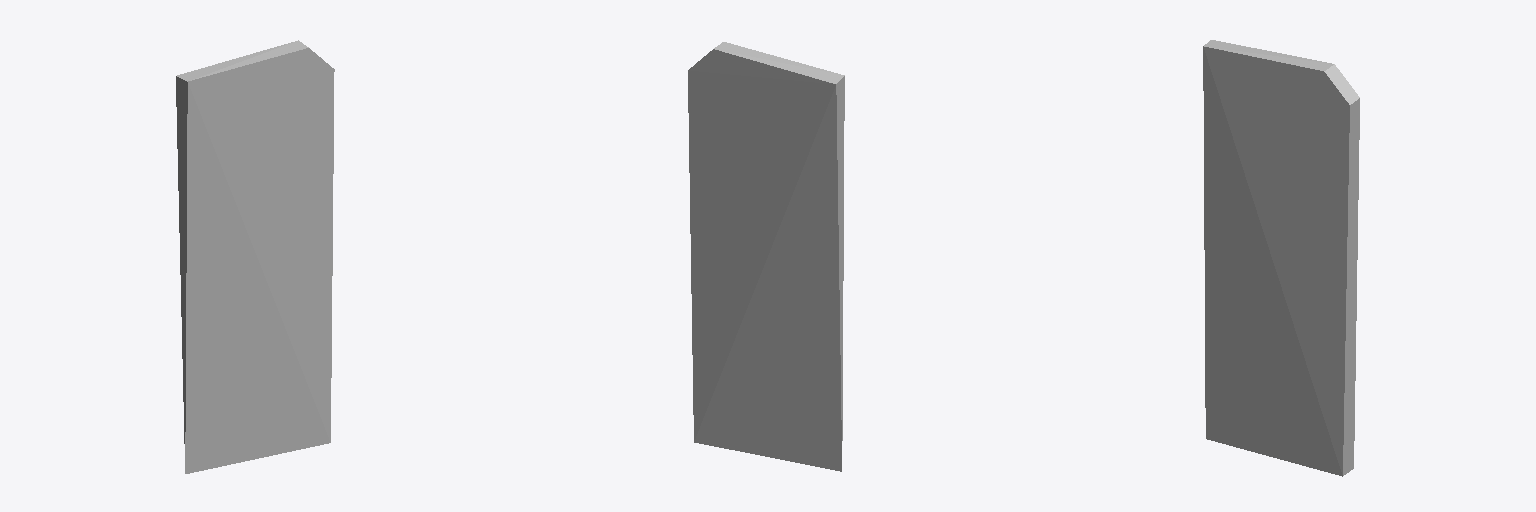
File: raw_model_collision_4.obj
The picture shows the model from 3 angles: view 1: azimuth 30°, elevation 25°; view 2: azimuth 150°, elevation 25°; view 3: azimuth 330°, elevation 25°; orthographic projection.
Size of the model in its own units: 0.3075 by 0.7891 by 0.0429.